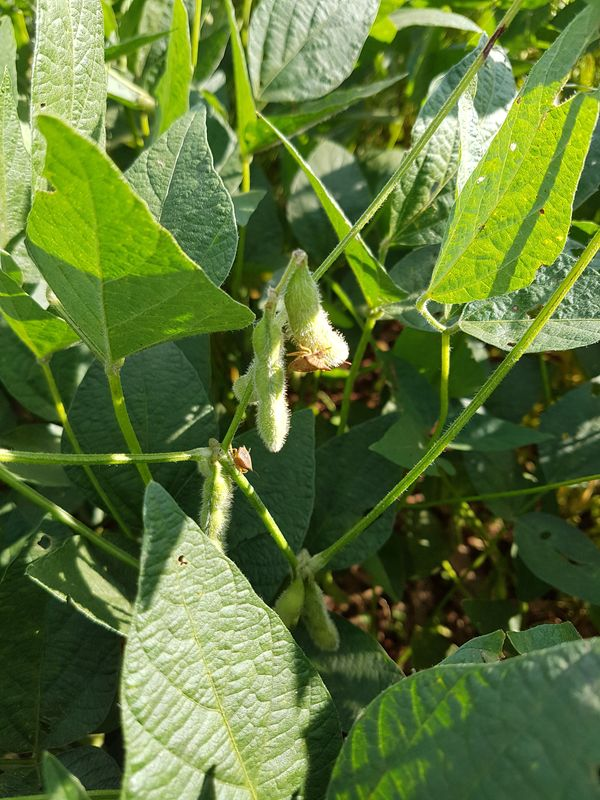Euschistus_heros_adulto: (280, 334, 347, 386), (218, 439, 264, 482)
